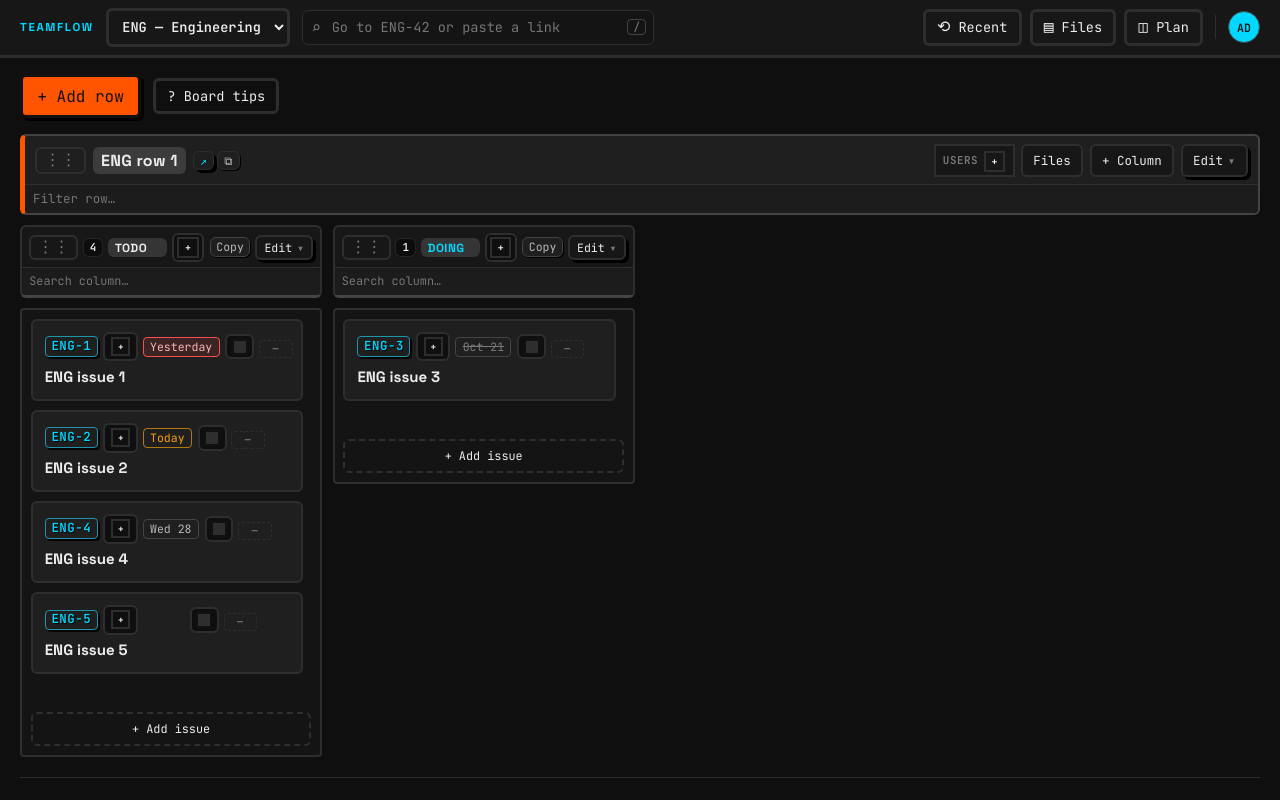
Test: due date on the board › edits the date from the chip without opening the issue
Expected: the button "ENG issue 5" is shown, [45,640,289,661]
Expected: the dropdown named "Workspace" is enabled, [106,8,290,47]
Click the button with aria-label "Due ".
click(171, 529)  # box [143,519,199,539]
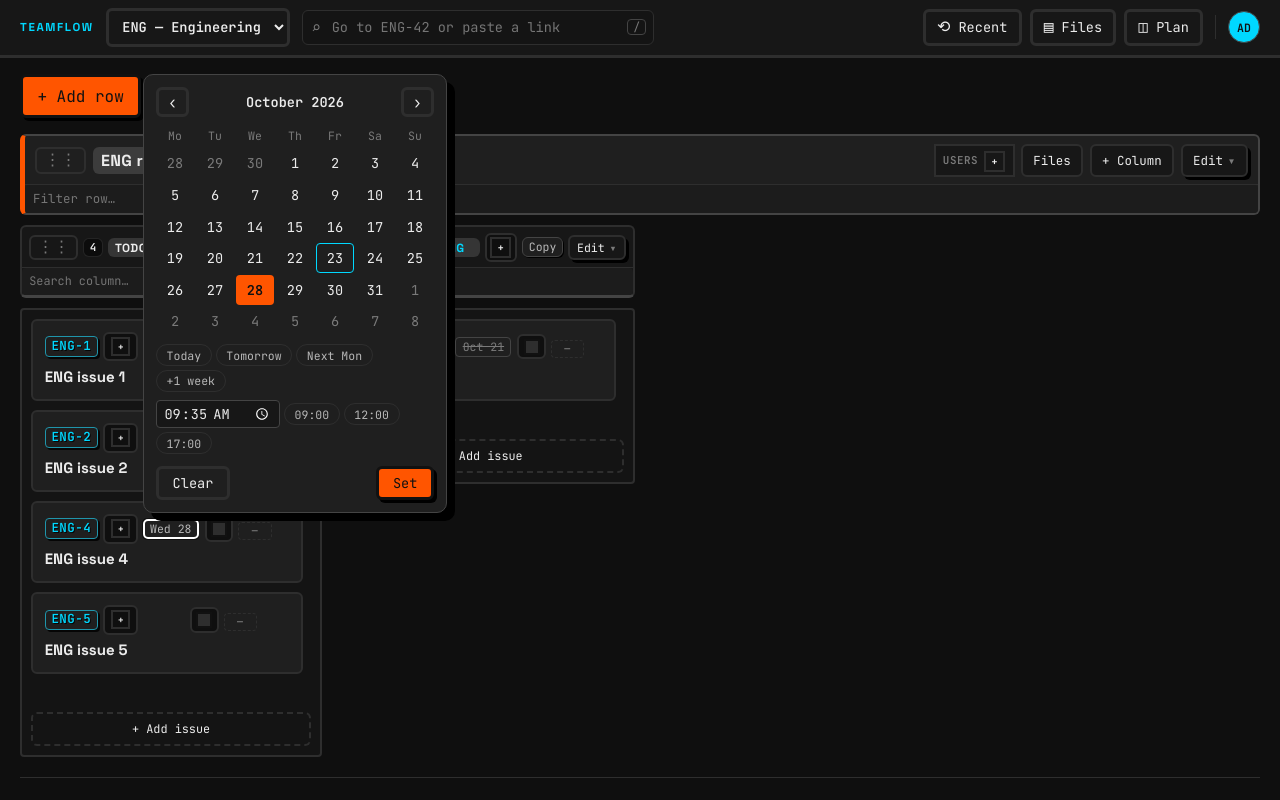
Click the button "Clear".
click(193, 483)  # box [156,466,230,500]
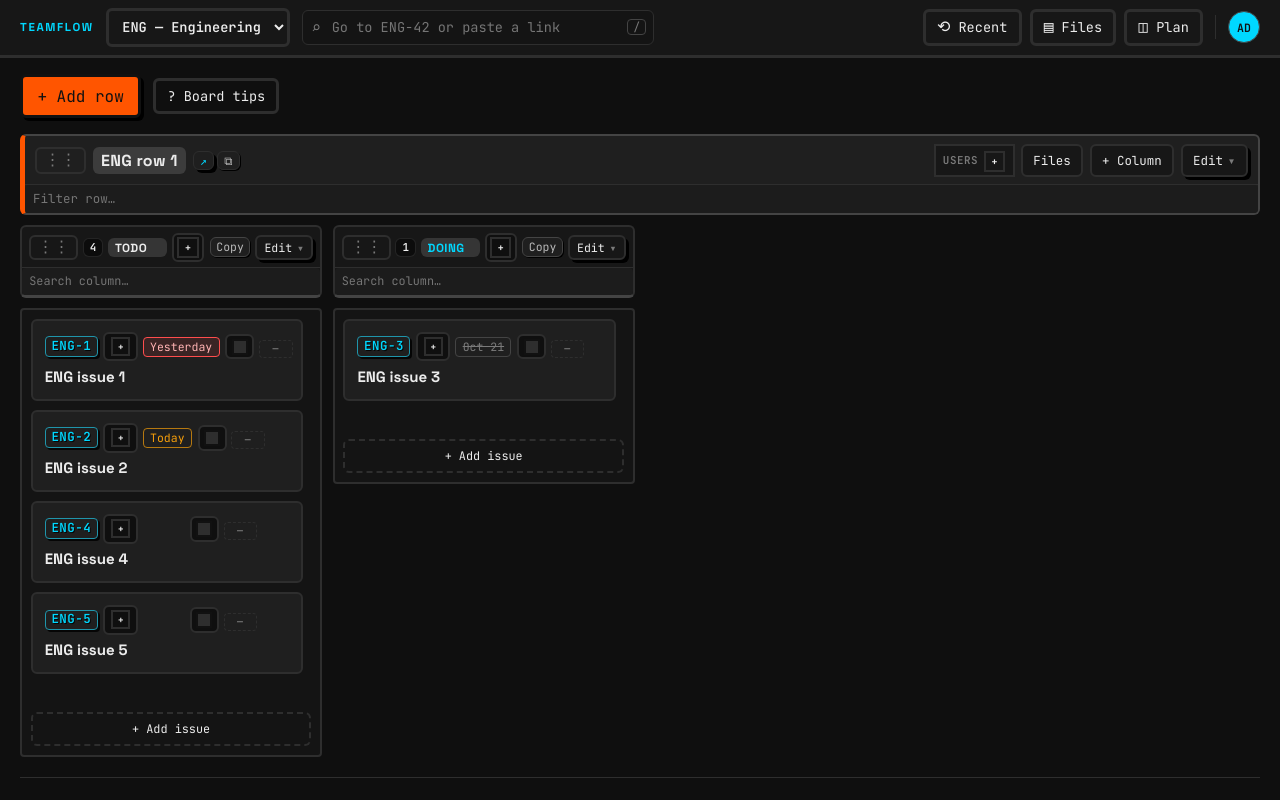
Result: the button "Wed 28" is gone
